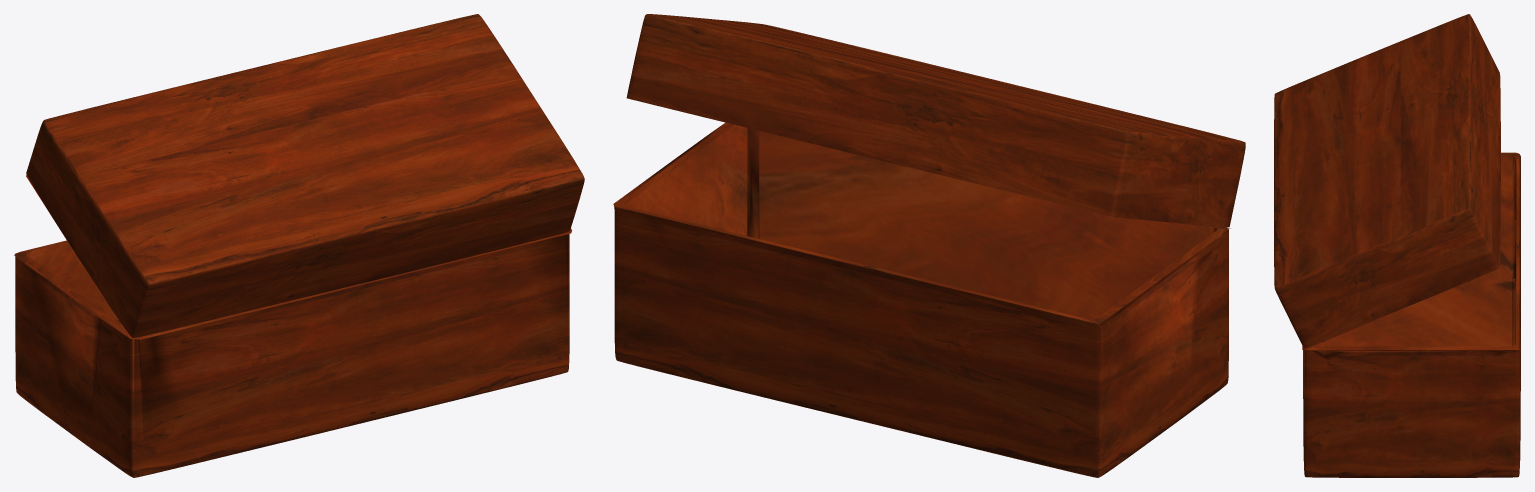
File: wooden_box_with_maori_carving.glb
The picture shows the model from 3 angles, left to right: view 1: azimuth 30°, elevation 25°; view 2: azimuth 150°, elevation 25°; view 3: azimuth 270°, elevation 25°; orthographic projection. The views are drawn at different scales.
Parts seen in each view (by area): view 1: bottom_0, bottom_1; view 2: bottom_0, bottom_1; view 3: bottom_0, bottom_1.
Part boxes in pixels (left/top/right/bottom): bottom_0: left=14, top=14, right=584, bottom=477; bottom_1: left=15, top=174, right=571, bottom=339; bottom_0: left=613, top=14, right=1245, bottom=477; bottom_1: left=614, top=123, right=1230, bottom=324; bottom_0: left=1274, top=14, right=1520, bottom=477; bottom_1: left=1302, top=154, right=1519, bottom=351.
Size of the model in its own units: 3.95 by 2.52 by 2.08.
2 materials, 2 textured.
